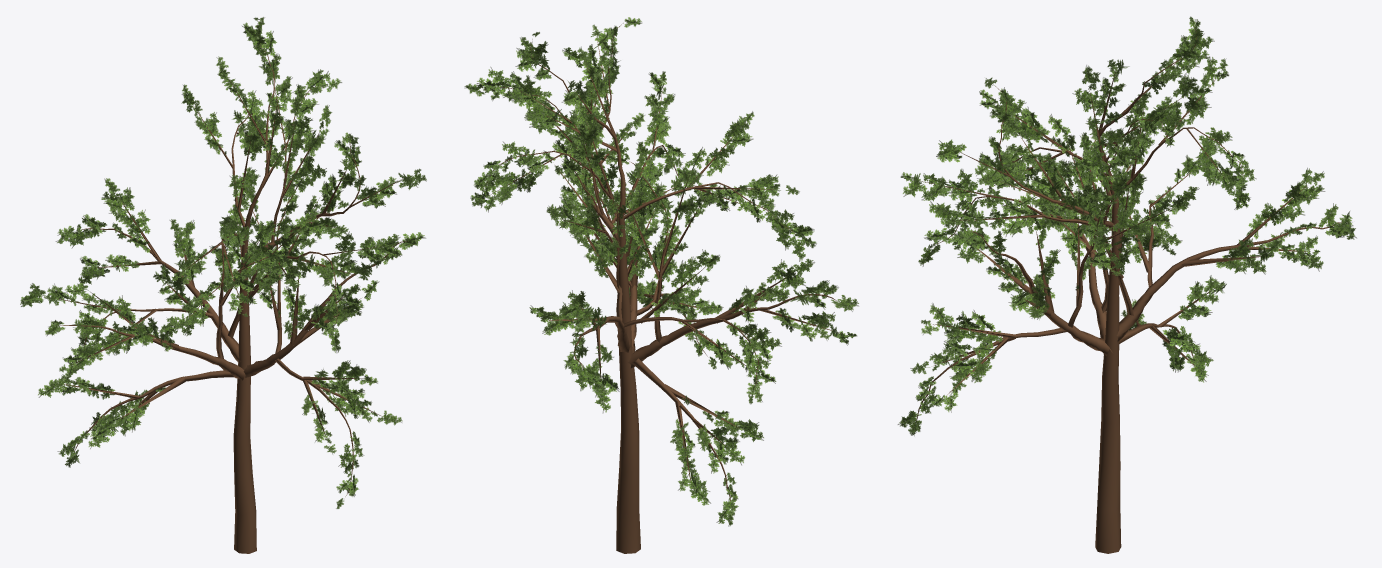
The model's file is oak-a.glb.
3 renders of one model, left to right at view 1: azimuth 30°, elevation 25°; view 2: azimuth 150°, elevation 25°; view 3: azimuth 270°, elevation 25°, orthographic. The views are drawn at different scales.
Bounding box in the file's own units: 5.86 × 8.31 × 6.42.
2 materials, 1 textured.
